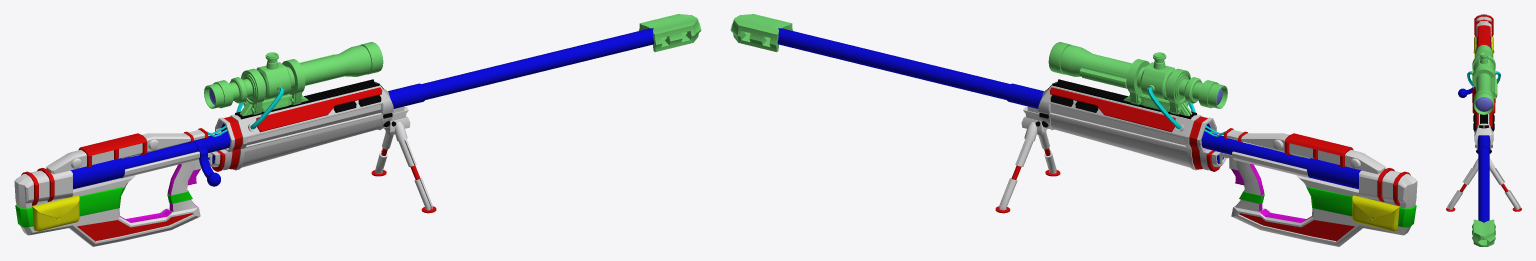
Rendered from SM_Pree_free_poor.fbx.
3 renders of one model, left to right at view 1: azimuth 30°, elevation 25°; view 2: azimuth 150°, elevation 25°; view 3: azimuth 270°, elevation 25°, orthographic. The views are drawn at different scales.
Parts seen in each view (by area): view 1: Bullet_1; view 2: Bullet_1; view 3: Bullet_1.
Part boxes in pixels (x1=…): Bullet_1: x1=14, y1=14, x2=701, y2=246; Bullet_1: x1=730, y1=14, x2=1417, y2=246; Bullet_1: x1=1446, y1=14, x2=1521, y2=246.
Size of the model in its own units: 19.72 by 136 by 32.35.
